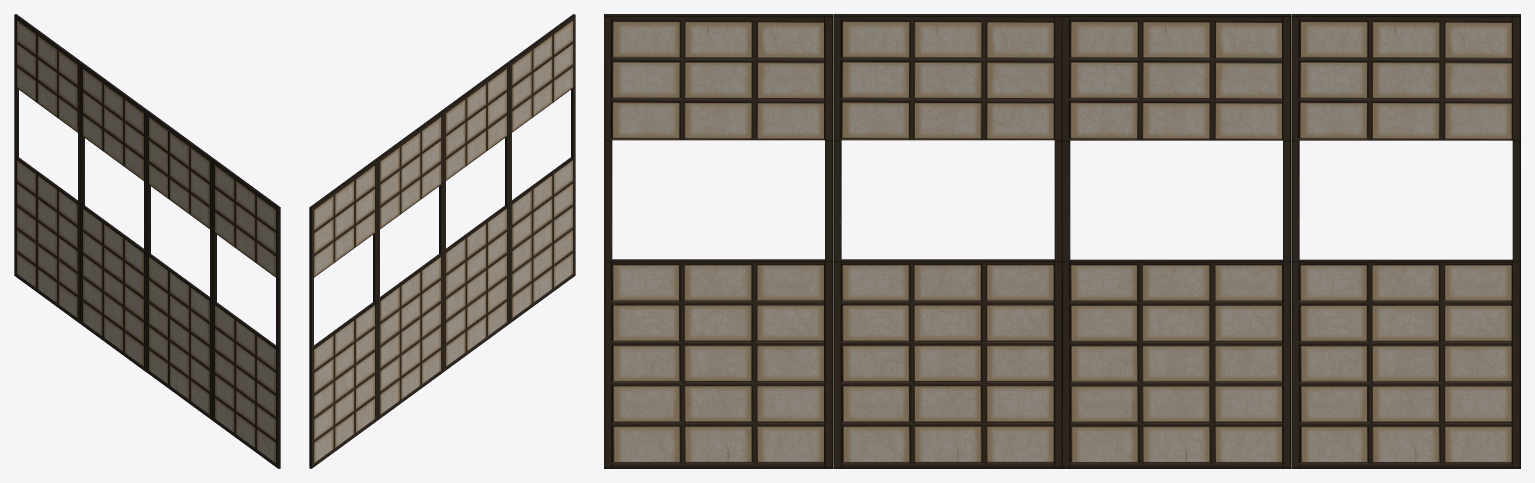
The model's file is shouji-window.fbx.
3 views of the same model, side by side, from view 1: azimuth 30°, elevation 25°; view 2: azimuth 150°, elevation 25°; view 3: azimuth 270°, elevation 25° (orthographic). The views are drawn at different scales.
Visible parts, largest first — view 1: Cube.002; view 2: Cube.002; view 3: Cube.002.
Boxes of the visible parts, left/top/right/bottom form: Cube.002: left=14, top=14, right=280, bottom=468; Cube.002: left=309, top=14, right=575, bottom=468; Cube.002: left=604, top=14, right=1520, bottom=468.
Size of the model in its own units: 2.05 by 218 by 400.
